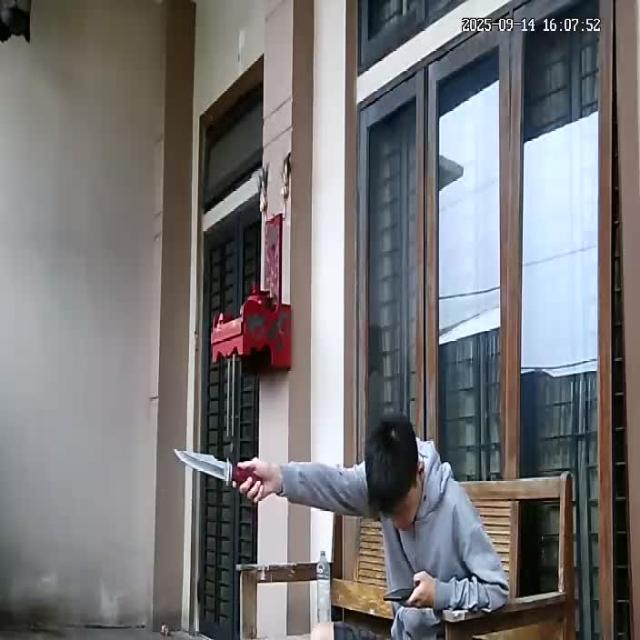senjata_tajam: (172, 443, 242, 489)
